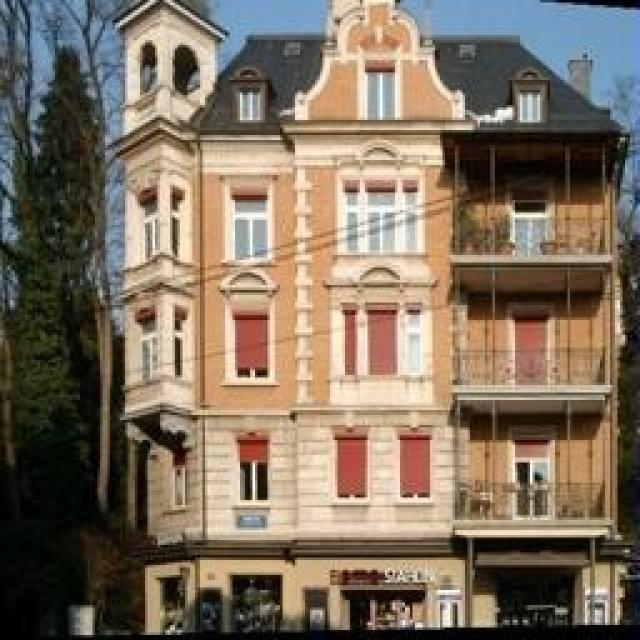building: (115, 3, 627, 635)
